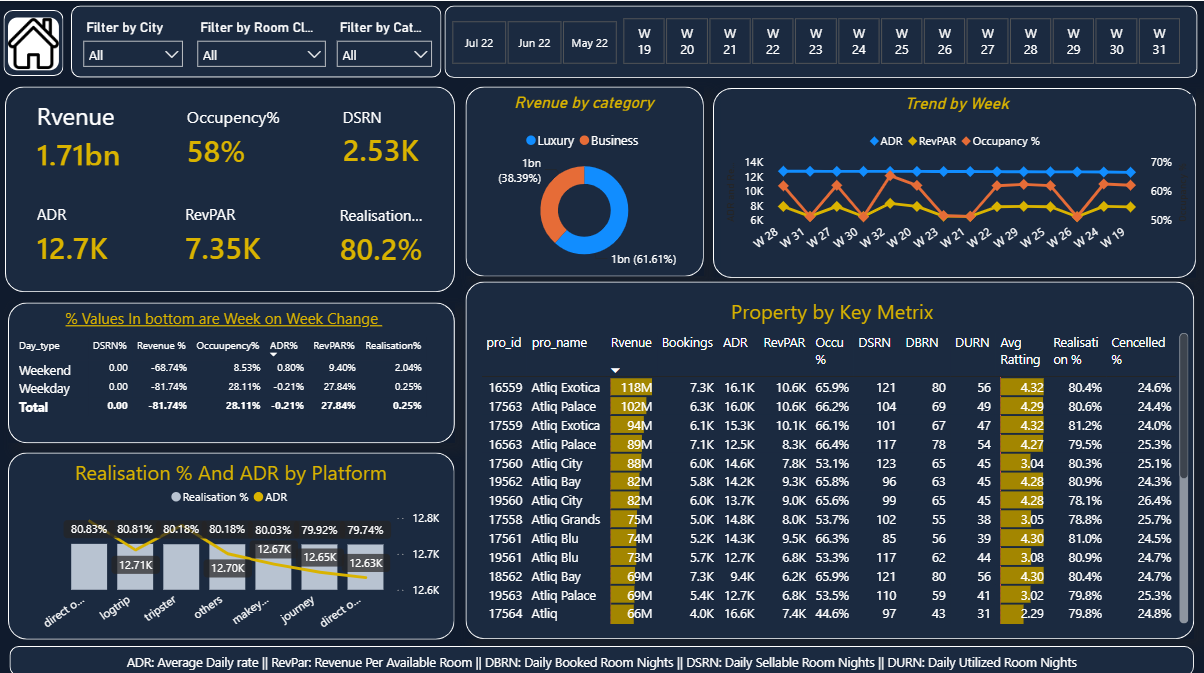

The dashboard page shown, as its layout file describes it:
{"tool":"powerbi","page":{"name":"Executive Overall","canvas":[1280,720],"ordinal":1},"visuals":[{"type":"shape","box":[79.5,4.8,392.9,76.3],"z":0},{"type":"slicer","title":"Filter by City","fields":{"Values":["dim_hotels.city"]},"box":[82.7,14.3,125.7,70],"z":1000},{"type":"slicer","title":"Filter by City","fields":{"Values":["dim_room.room_class"]},"box":[203.6,14.3,155.9,55.7],"z":2000},{"type":"slicer","title":"Filter by City","fields":{"Values":["dim_hotels.category"]},"box":[351.5,14.3,120.9,62],"z":3000},{"type":"shape","box":[9.8,90.2,477,218],"z":4000},{"type":"cardVisual","fields":{"Data":["Key Measures.Rvenue"]},"box":[14.4,96,147.2,96],"z":5000},{"type":"cardVisual","fields":{"Data":["Key Measures.Occupancy %"]},"box":[172.8,99.2,158.4,92.8],"z":6000},{"type":"cardVisual","fields":{"Data":["Key Measures.DSRN"]},"box":[339.2,99.2,150.4,92.8],"z":7000},{"type":"cardVisual","fields":{"Data":["Key Measures.ADR"]},"box":[14.8,201.6,147.5,93.4],"z":8000},{"type":"cardVisual","fields":{"Data":["Key Measures.RevPAR"]},"box":[172.1,201.6,159,93.4],"z":9000},{"type":"cardVisual","fields":{"Data":["Key Measures.Realisation %"]},"box":[336.1,200,150.8,98.4],"z":10000},{"type":"shape","box":[497.9,91,252.8,201.6],"z":11000},{"type":"donutChart","fields":{"Category":["dim_hotels.category"],"Y":["Key Measures.Rvenue"]},"box":[490.2,96.7,267.2,190.2],"z":12000},{"type":"shape","box":[760.3,91.6,512.3,201.5],"z":13000},{"type":"lineChart","title":"Trend by Week","fields":{"Category":["dim_date.week no"],"Y":["Key Measures.ADR","Key Measures.RevPAR"],"Y2":["Key Measures.Occupancy %"]},"box":[768,99.2,500.8,184],"z":14000},{"type":"shape","box":[13.1,319.7,473.8,149.2],"z":15000},{"type":"pivotTable","fields":{"Rows":["dim_date.Date_type"],"Values":["Key Measures.\"DSRN WoW change %","Key Measures.\"Revenue WoW change %","Key Measures.Occupancy WoW change %","Key Measures.\"ADR WoW change %","Key Measures.\"RevPAR WoW change %","Key Measures.\"Realisation WoW change %"]},"box":[14.4,352,472,116.8],"z":16000},{"type":"textbox","box":[68.9,319.7,363.1,43.1],"z":17000},{"type":"shape","box":[497.6,297.6,772.8,379.2],"z":18000},{"type":"tableEx","fields":{"Values":["dim_hotels.property_id","dim_hotels.property_name","Key Measures.Rvenue","Key Measures.Total  Booking","Key Measures.ADR","Key Measures.RevPAR","Key Measures.Occupancy %","Key Measures.DSRN(Daily Sellable Room Nights)","Key Measures.DBRN (Daily Sellable Room Nights)","Key Measures.DURN(Daily Utilized Room Nights)","Key Measures.Avg Rattings","Key Measures.Realisation"]},"box":[508.8,347.2,760,318.4],"z":19000},{"type":"textbox","box":[518,308.2,736.1,47.5],"z":20000},{"type":"shape","box":[12.8,478.4,473.6,198.4],"z":21000},{"type":"lineStackedColumnComboChart","fields":{"Category":["fact_bookings.booking_platform"],"Y":["Key Measures.Realisation %"],"Y2":["Key Measures.ADR"]},"box":[24,505.6,451.2,171.2],"z":22000},{"type":"textbox","box":[25.6,478.4,447.5,45.9],"z":23000},{"type":"shape","box":[475.2,4.8,798.4,76.8],"z":24000},{"type":"slicer","title":"Filter by City","fields":{"Values":["dim_date.week no"]},"box":[640,11.2,640,62.4],"z":25000},{"type":"slicer","title":"Filter by City","fields":{"Values":["dim_date.mmm yy"]},"box":[457.6,14.4,224,59.2],"z":26000},{"type":"shape","box":[14.4,683.2,1256,32],"z":27000},{"type":"shape","box":[8,9.5,63.6,70],"z":28000},{"type":"image","box":[12.7,17.5,54.1,55.7],"z":29000}]}

Visuals, with their boxes in screenshot pixels (x1, y1, x2, y2), scaled from the page's 1280x720 canvas onto the 1204x673 screenshot:
shape: x1=75 y1=4 x2=444 y2=76
"Filter by City" slicer: x1=78 y1=13 x2=196 y2=79
"Filter by City" slicer: x1=192 y1=13 x2=338 y2=65
"Filter by City" slicer: x1=331 y1=13 x2=444 y2=71
shape: x1=9 y1=84 x2=458 y2=288
cardVisual - Key Measures.Rvenue: x1=14 y1=90 x2=152 y2=179
cardVisual - Key Measures.Occupancy %: x1=163 y1=93 x2=312 y2=179
cardVisual - Key Measures.DSRN: x1=319 y1=93 x2=461 y2=179
cardVisual - Key Measures.ADR: x1=14 y1=188 x2=153 y2=276
cardVisual - Key Measures.RevPAR: x1=162 y1=188 x2=311 y2=276
cardVisual - Key Measures.Realisation %: x1=316 y1=187 x2=458 y2=279
shape: x1=468 y1=85 x2=706 y2=273
donutChart - dim_hotels.category x Key Measures.Rvenue: x1=461 y1=90 x2=712 y2=268
shape: x1=715 y1=86 x2=1197 y2=274
"Trend by Week" lineChart: x1=722 y1=93 x2=1193 y2=265
shape: x1=12 y1=299 x2=458 y2=438
pivotTable - dim_date.Date_type x Key Measures."DSRN WoW change %: x1=14 y1=329 x2=458 y2=438
textbox: x1=65 y1=299 x2=406 y2=339
shape: x1=468 y1=278 x2=1195 y2=633
tableEx - dim_hotels.property_id x dim_hotels.property_name: x1=479 y1=325 x2=1193 y2=622
textbox: x1=487 y1=288 x2=1180 y2=332
shape: x1=12 y1=447 x2=458 y2=633
lineStackedColumnComboChart - fact_bookings.booking_platform x Key Measures.Realisation %: x1=23 y1=473 x2=447 y2=633
textbox: x1=24 y1=447 x2=445 y2=490
shape: x1=447 y1=4 x2=1198 y2=76
"Filter by City" slicer: x1=602 y1=10 x2=1203 y2=69
"Filter by City" slicer: x1=430 y1=13 x2=641 y2=69
shape: x1=14 y1=639 x2=1195 y2=669
shape: x1=8 y1=9 x2=67 y2=74
image: x1=12 y1=16 x2=63 y2=68
